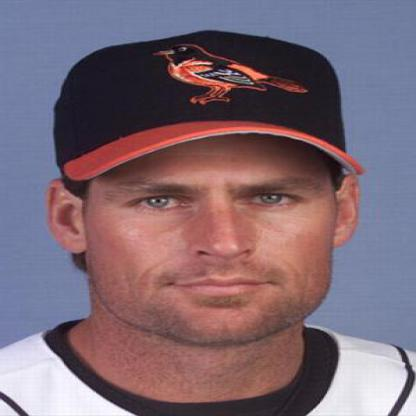face: (77, 36, 349, 346)
